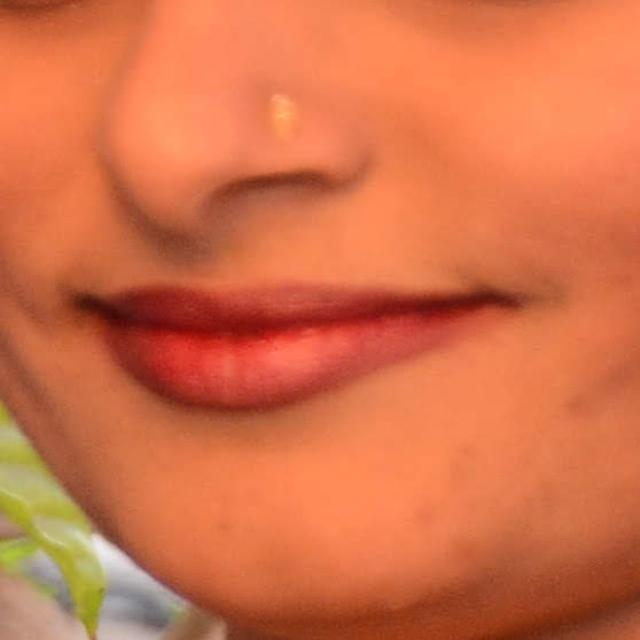normal_tongue: (132, 240, 518, 461)
